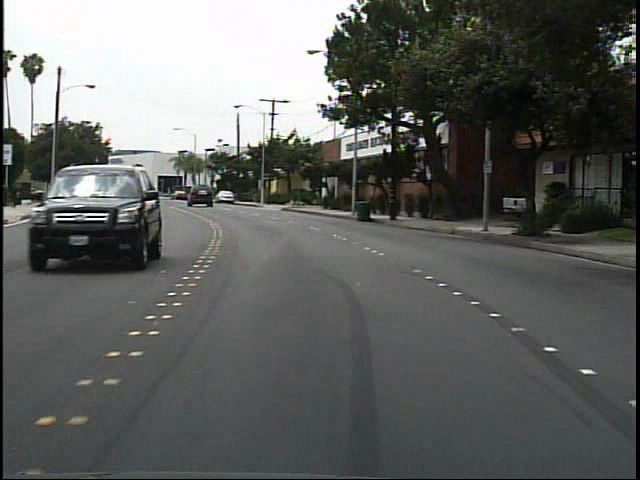person: (9, 178, 28, 210)
